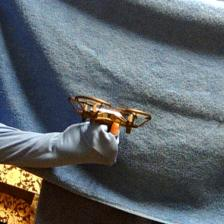drone: (68, 96, 154, 136)
